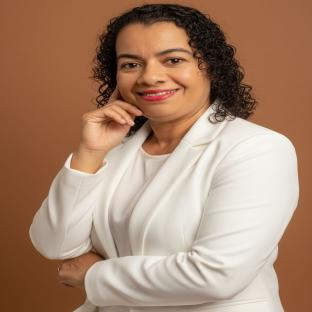Human: (29, 4, 298, 312)
